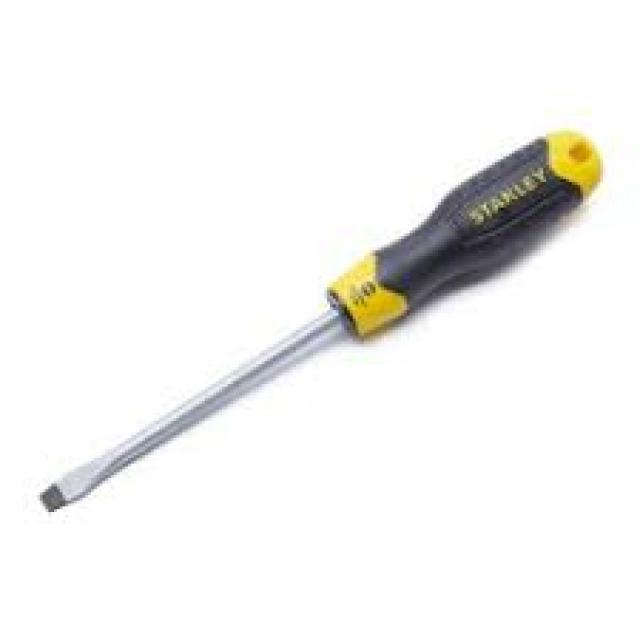screwdriver: (34, 124, 606, 516)
